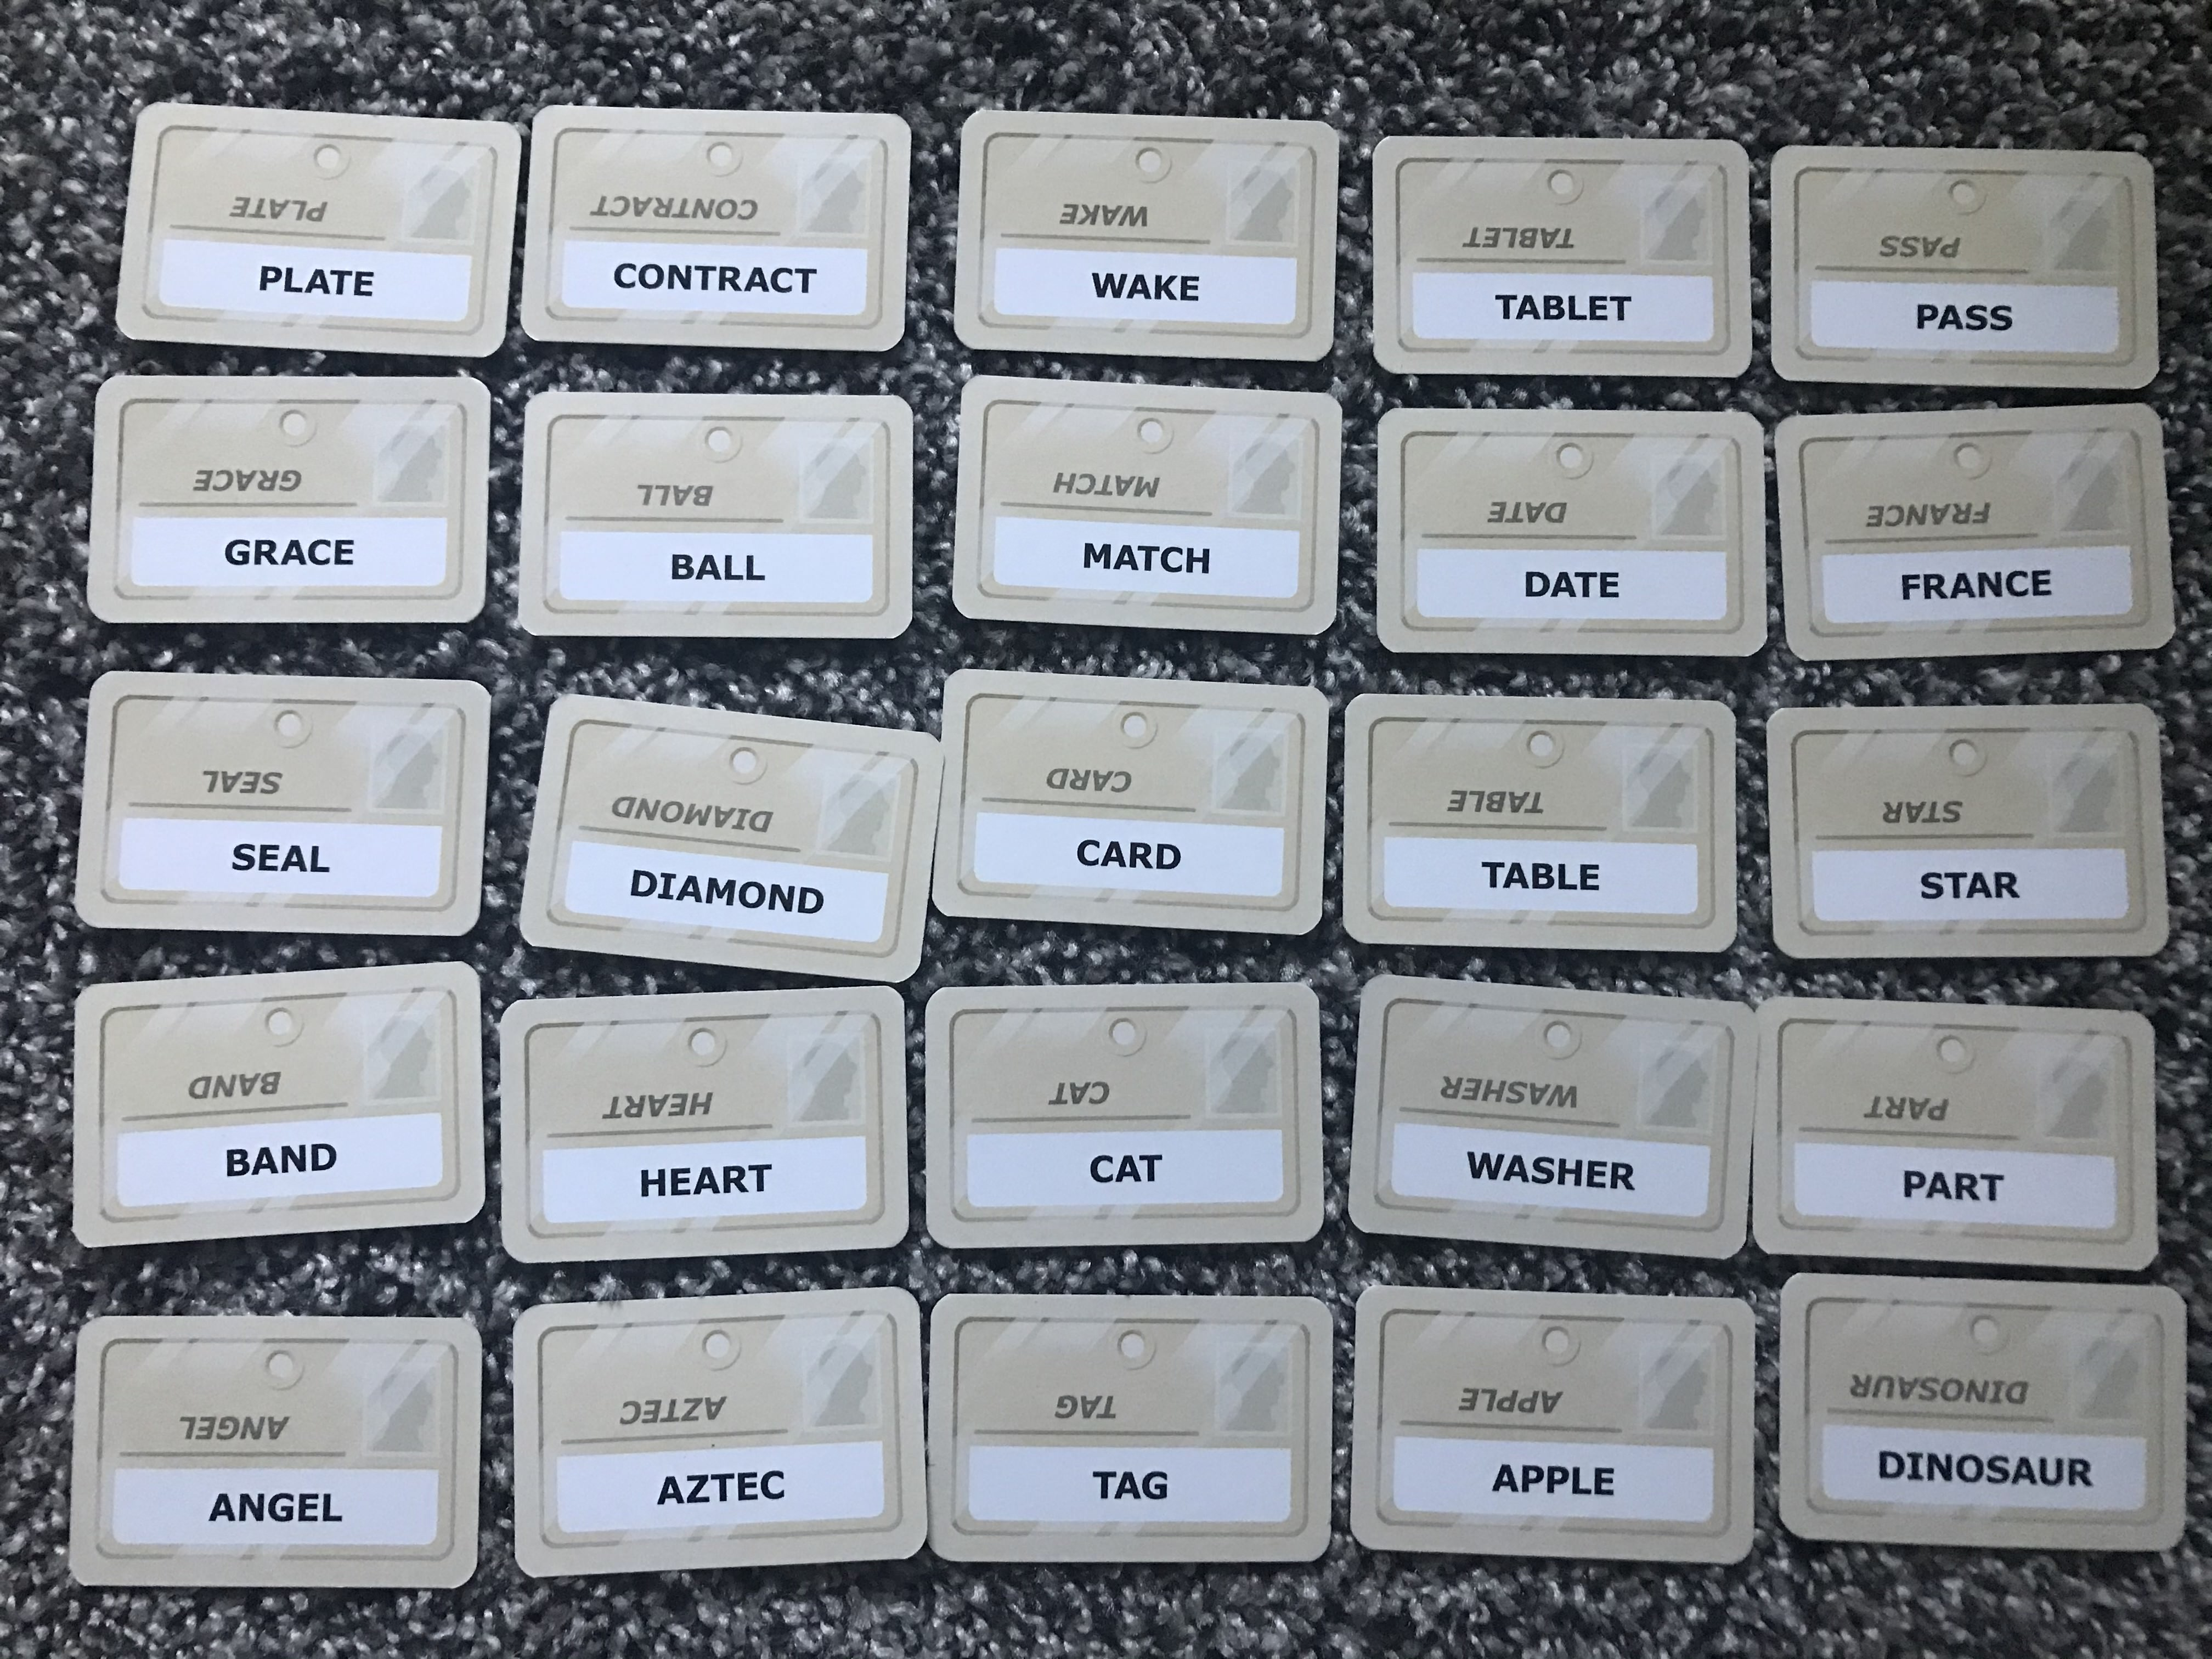A: (1961, 866, 1994, 911), (695, 544, 723, 594), (1491, 1457, 1519, 1506), (2008, 1446, 2036, 1495), (301, 261, 331, 307), (1113, 1148, 1143, 1194), (280, 836, 308, 884), (1937, 296, 1965, 342), (655, 1471, 683, 1516), (1113, 1464, 1141, 1509), (690, 1161, 719, 1202), (1101, 835, 1127, 882), (1926, 1166, 1954, 1209), (207, 1486, 233, 1532), (1501, 1145, 1529, 1187), (679, 866, 704, 913), (251, 1141, 277, 1183), (1949, 565, 1977, 603), (1550, 566, 1576, 606), (282, 533, 307, 575), (745, 261, 770, 301), (1515, 289, 1540, 329), (1501, 857, 1526, 897), (1113, 538, 1137, 577), (1127, 268, 1151, 305)
